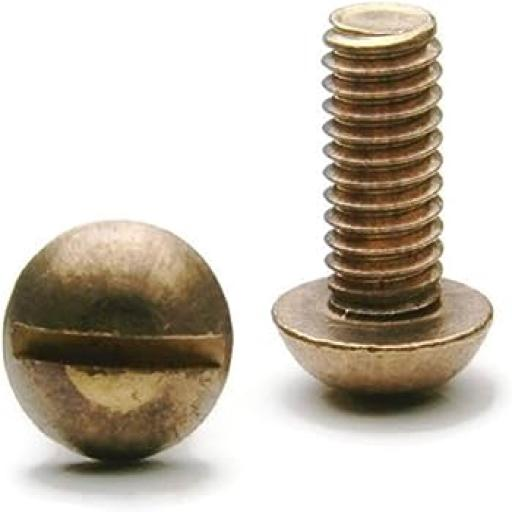Slotted: (5, 214, 235, 468)
